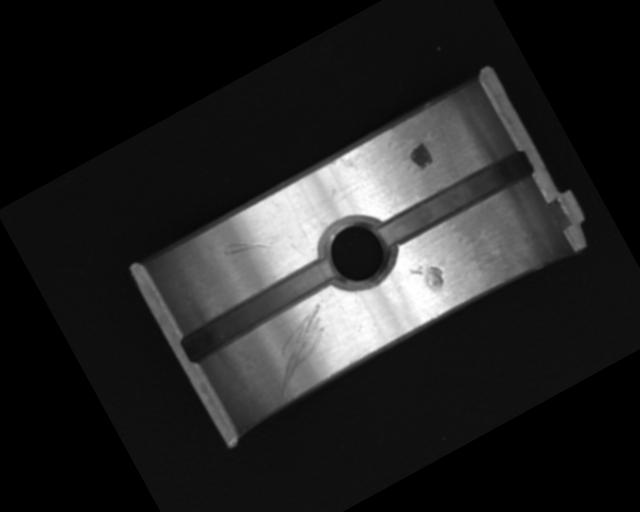blot: (405, 140, 435, 172)
bruise: (408, 256, 449, 297)
gap: (174, 253, 342, 367), (375, 146, 534, 251)
hole: (309, 203, 408, 302)
nick: (250, 302, 351, 397), (221, 221, 280, 270)
